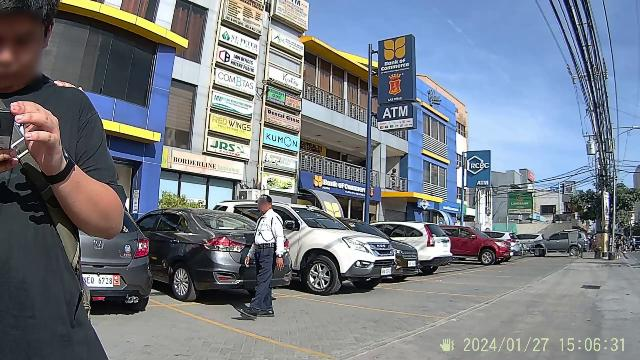utility_post: (584, 114, 620, 262)
